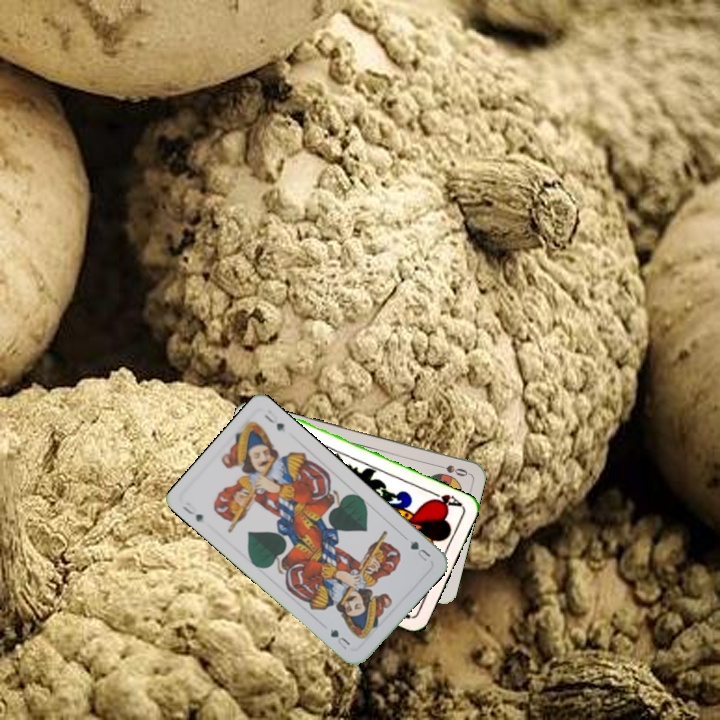GU: (406, 536, 433, 565), (177, 497, 206, 524)
HA: (425, 487, 464, 510)
SO: (431, 460, 471, 479)
